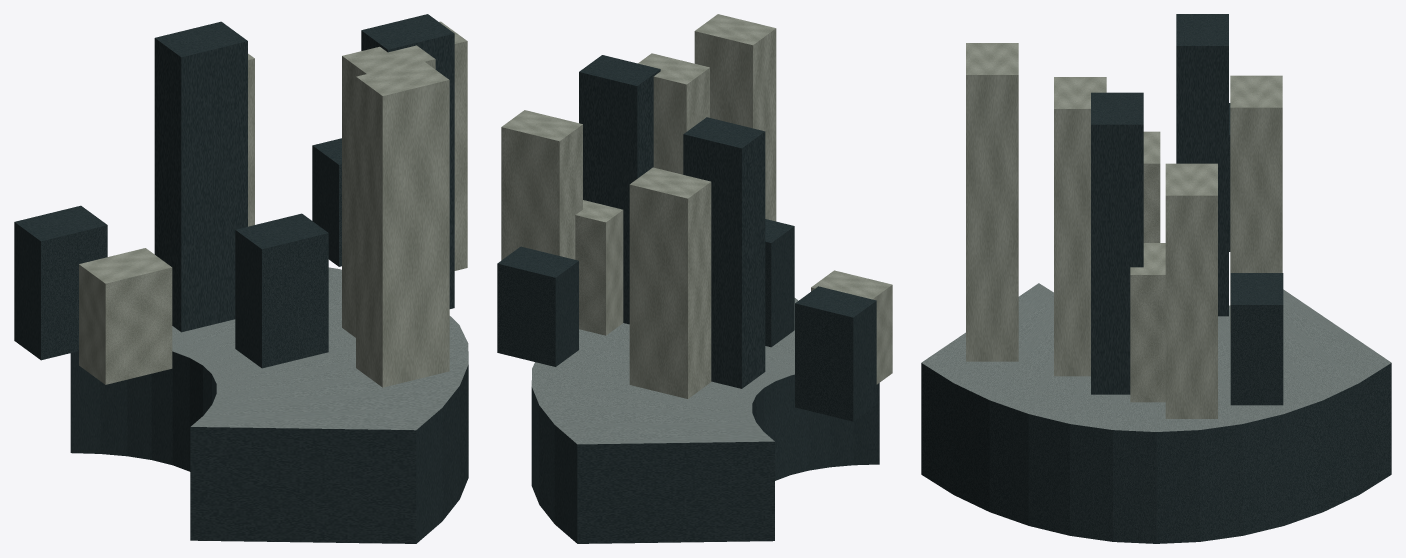
File: city_disk_fragment_01.fbx
3 views of the same model, side by side, from view 1: azimuth 30°, elevation 25°; view 2: azimuth 150°, elevation 25°; view 3: azimuth 270°, elevation 25° (orthographic). The views are drawn at different scales.
Parts seen in each view (by area): view 1: city_disk_fragment_01_LOD0; view 2: city_disk_fragment_01_LOD0; view 3: city_disk_fragment_01_LOD0.
Boxes of the visible parts, x1,y1,x2,y2 form: city_disk_fragment_01_LOD0: (14,14,468,543); city_disk_fragment_01_LOD0: (497,14,892,543); city_disk_fragment_01_LOD0: (921,14,1391,543).
Size of what is drawn, in the model's own units: 1 by 1 by 1.
